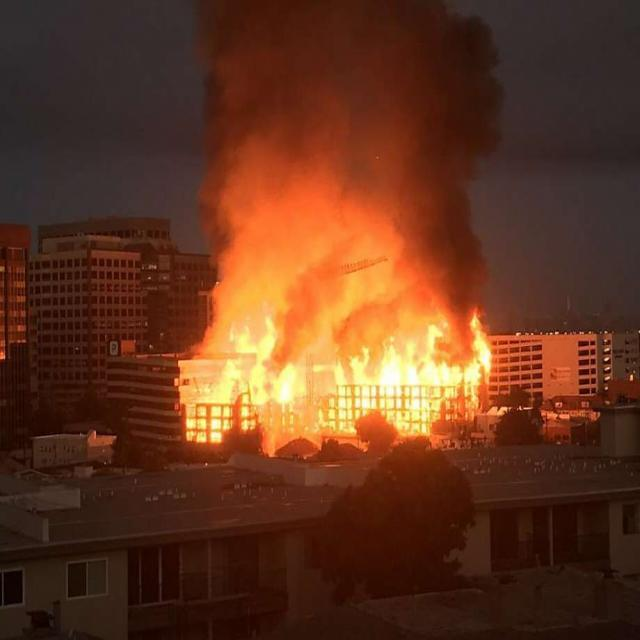Fire: (174, 170, 496, 454)
